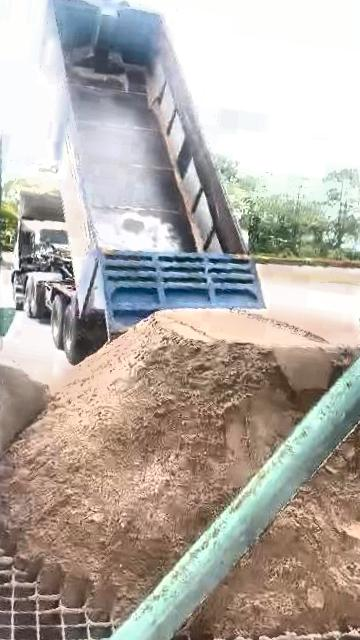sand: (0, 311, 360, 616), (190, 399, 360, 637), (0, 346, 49, 464)
